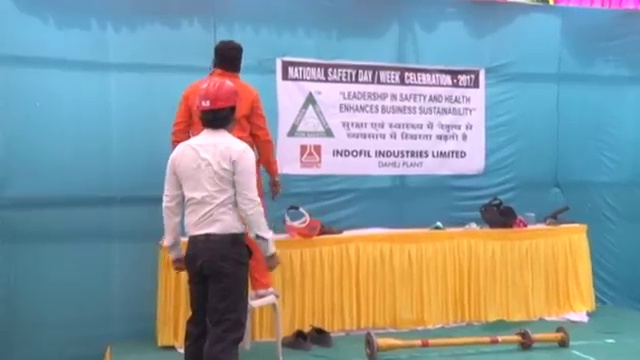helmet: (195, 78, 239, 111)
helmet_off: (210, 39, 246, 75)
helmet_on: (195, 78, 239, 133)
person: (161, 73, 274, 360), (179, 37, 284, 295)
